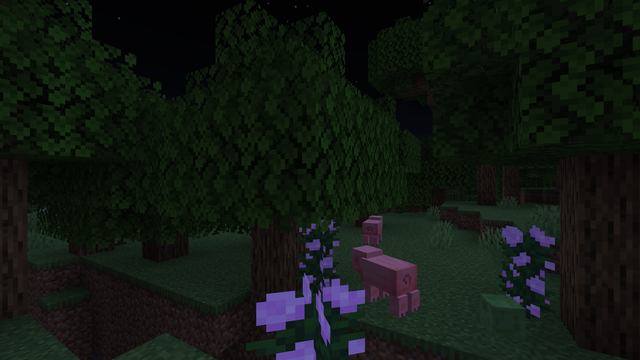cochons: (360, 252, 413, 317), (358, 218, 385, 245)
slimes: (483, 290, 522, 341)
